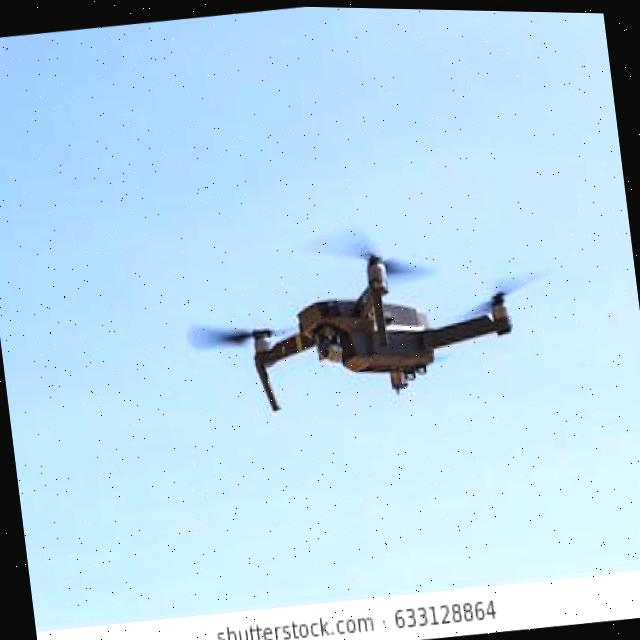drone: (168, 164, 572, 439)
